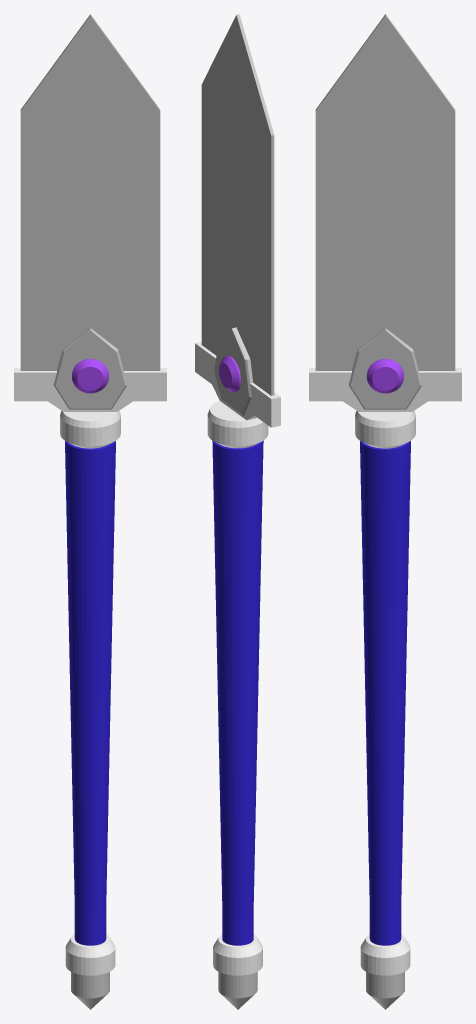
File: AmethystSpear.fbx
3 renders of one model, left to right at view 1: azimuth 90°, elevation 25°; view 2: azimuth 210°, elevation 25°; view 3: azimuth 270°, elevation 25°, orthographic.
Visible parts, largest first — view 1: Spear13; view 2: Spear13; view 3: Spear13.
Part boxes in pixels (x1,y1,x2,y2): Spear13: (14,14,166,1009); Spear13: (195,14,280,1009); Spear13: (309,14,461,1009).
Bounding box in the file's own units: 33.48 × 604 × 84.04.
